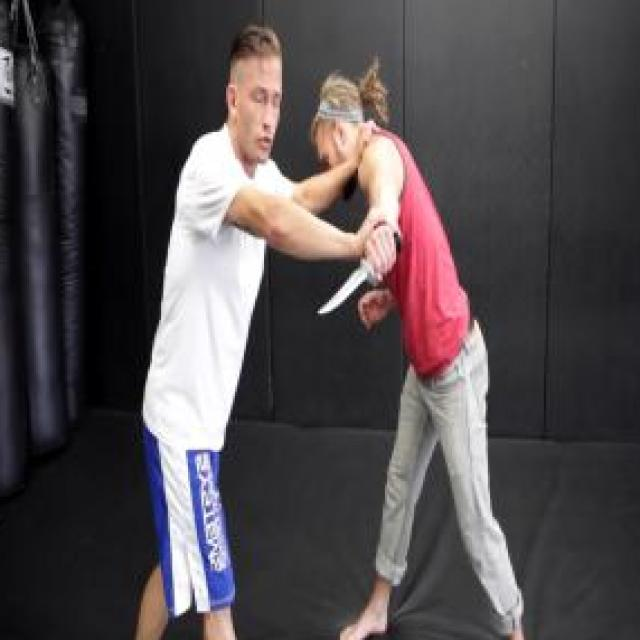knife: (312, 226, 407, 326)
